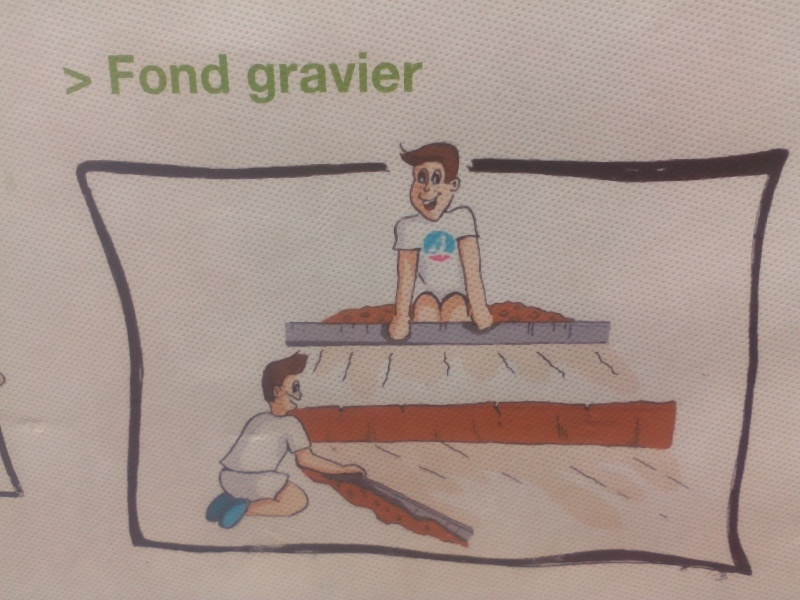text: (257, 50, 272, 104), (273, 50, 288, 104), (289, 50, 304, 104), (305, 50, 320, 104), (321, 50, 336, 104), (337, 50, 352, 104), (353, 50, 368, 104), (369, 50, 384, 104), (385, 50, 400, 104), (401, 50, 416, 104), (113, 53, 128, 96), (129, 53, 144, 96), (145, 53, 160, 96), (161, 53, 176, 96), (177, 53, 192, 96), (193, 53, 208, 96), (209, 53, 224, 96), (247, 50, 256, 104), (417, 50, 426, 104), (225, 53, 230, 96), (108, 53, 112, 96)
